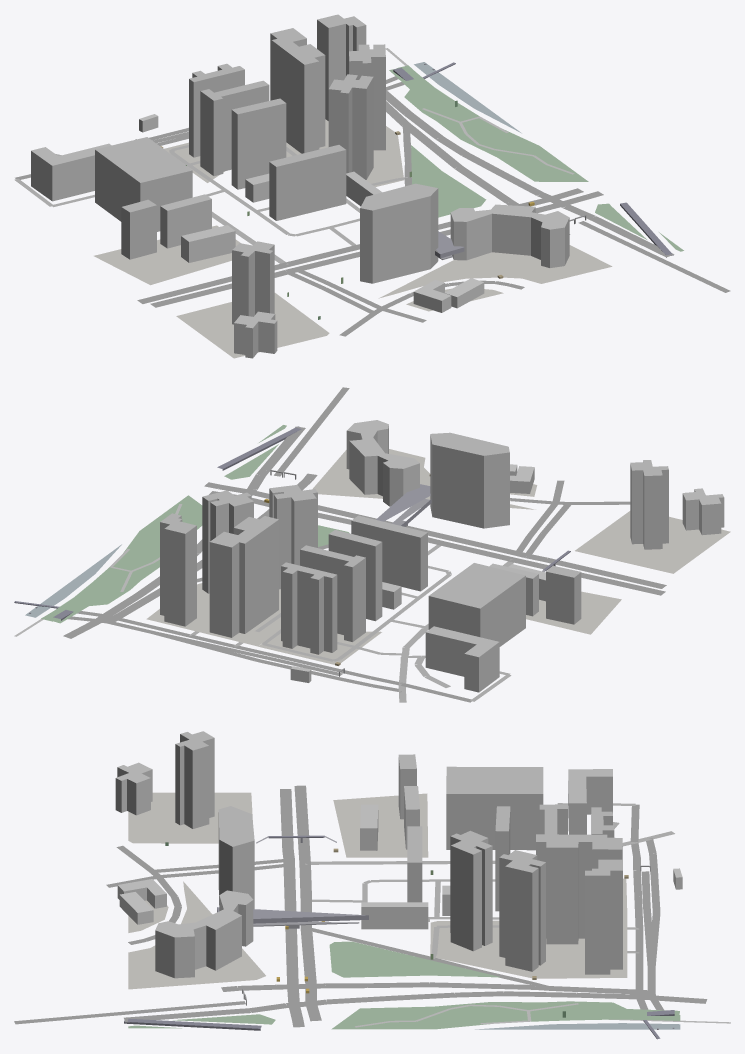
The picture shows the model from 3 angles, top to bottom: view 1: azimuth 30°, elevation 25°; view 2: azimuth 150°, elevation 25°; view 3: azimuth 270°, elevation 25°; orthographic projection. The views are drawn at different scales.
Bounding box in the file's own units: 538 × 103 × 650.
